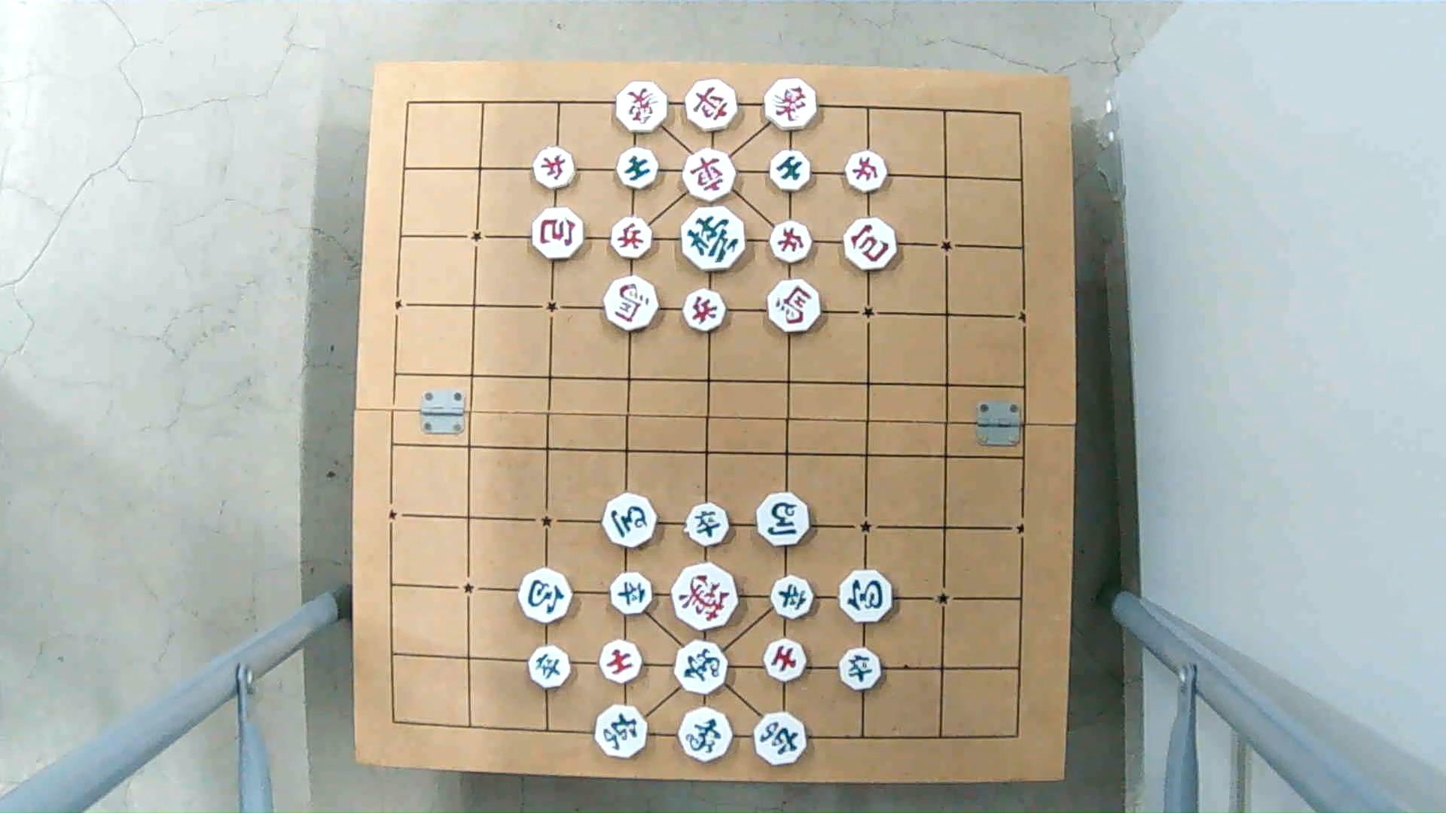cha_green: (754, 712, 808, 772), (596, 707, 648, 760)
cha_red: (681, 152, 737, 201), (683, 83, 739, 130)
jol_green: (611, 570, 654, 617), (687, 507, 734, 547), (527, 648, 572, 689), (840, 650, 884, 691), (771, 577, 816, 617)
jol_red: (682, 288, 730, 331), (610, 216, 654, 261), (843, 151, 890, 193), (532, 148, 578, 190), (769, 221, 813, 263)
ma_green: (603, 495, 660, 545), (755, 497, 811, 546)
ma_red: (605, 282, 663, 331), (769, 285, 824, 333)
po_green: (839, 571, 893, 626), (520, 571, 577, 622)
po_red: (533, 210, 587, 260), (843, 218, 897, 266)
sa_green: (767, 151, 814, 193), (616, 151, 662, 190)
sa_red: (760, 638, 808, 683), (599, 638, 647, 682)
sang_green: (677, 708, 733, 765), (673, 638, 730, 693)
sang_red: (765, 81, 822, 129), (616, 87, 672, 135)
wang_green: (681, 208, 750, 269)
wang_red: (672, 568, 743, 628)
